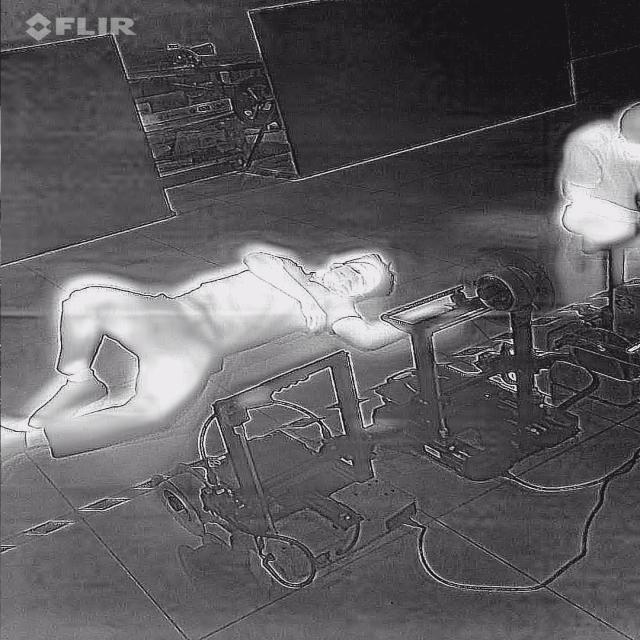Victim: (0, 239, 460, 479), (550, 91, 639, 260)
